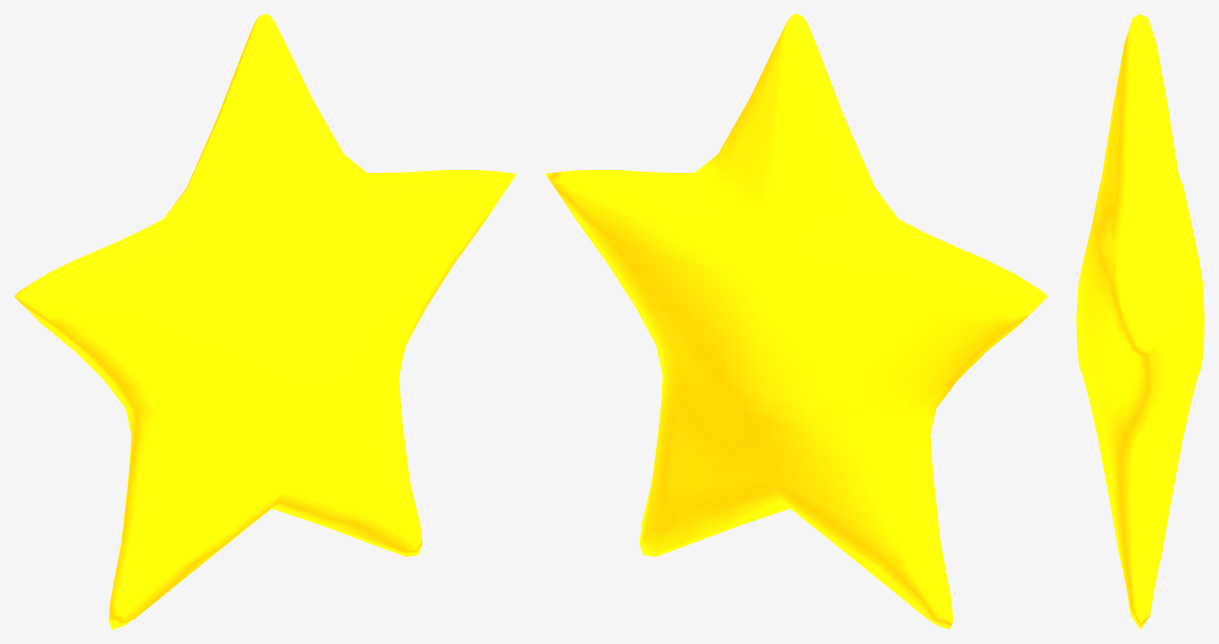
Rendered from Star.glb.
3 renders of one model, left to right at view 1: azimuth 30°, elevation 25°; view 2: azimuth 150°, elevation 25°; view 3: azimuth 270°, elevation 25°, orthographic. The views are drawn at different scales.
Visible parts, largest first — view 1: Box001_02 - Default_0; view 2: Box001_02 - Default_0; view 3: Box001_02 - Default_0.
Part boxes in pixels (left/top/right/bottom): Box001_02 - Default_0: left=14, top=14, right=516, bottom=629; Box001_02 - Default_0: left=545, top=14, right=1047, bottom=629; Box001_02 - Default_0: left=1076, top=14, right=1204, bottom=629.
Bounding box in the file's own units: 301 × 330 × 70.49.
